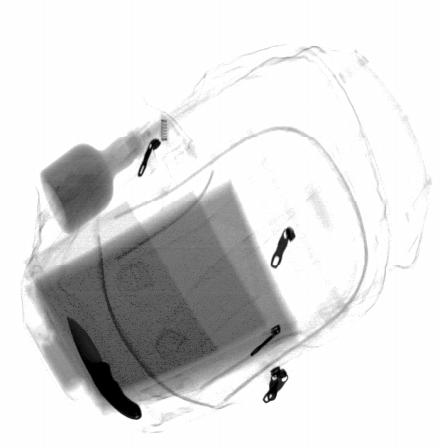Knife: (65, 313, 143, 423)
